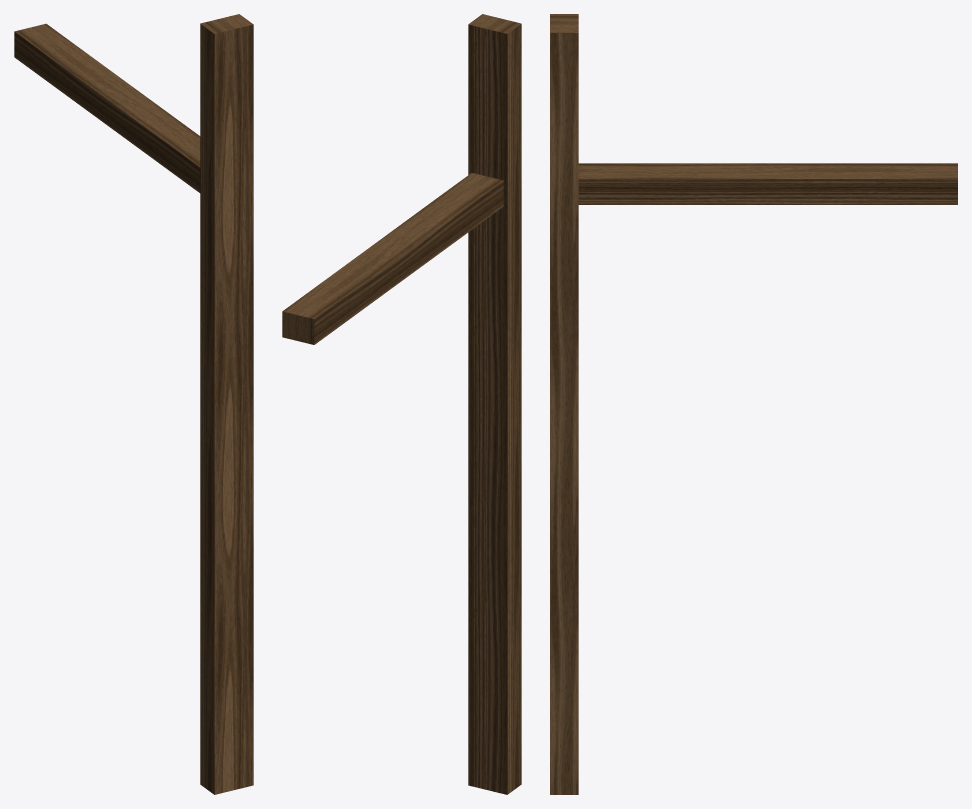
File: Wooden 27.glb
3 renders of one model, left to right at view 1: azimuth 30°, elevation 25°; view 2: azimuth 150°, elevation 25°; view 3: azimuth 270°, elevation 25°, orthographic.
Parts seen in each view (by area): view 1: Wooden_27; view 2: Wooden_27; view 3: Wooden_27.
Part boxes in pixels (x1=…): Wooden_27: x1=14, y1=14, x2=253, y2=794; Wooden_27: x1=282, y1=14, x2=521, y2=794; Wooden_27: x1=550, y1=14, x2=957, y2=794.
Bounding box in the file's own units: 0.0795 × 1.48 × 0.7174.
Materials: 1 (1 with a texture image).
